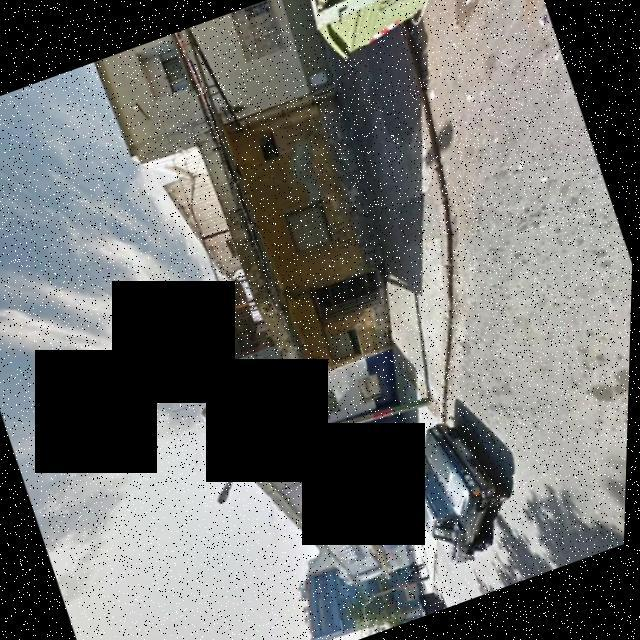bin: (282, 0, 503, 84)
